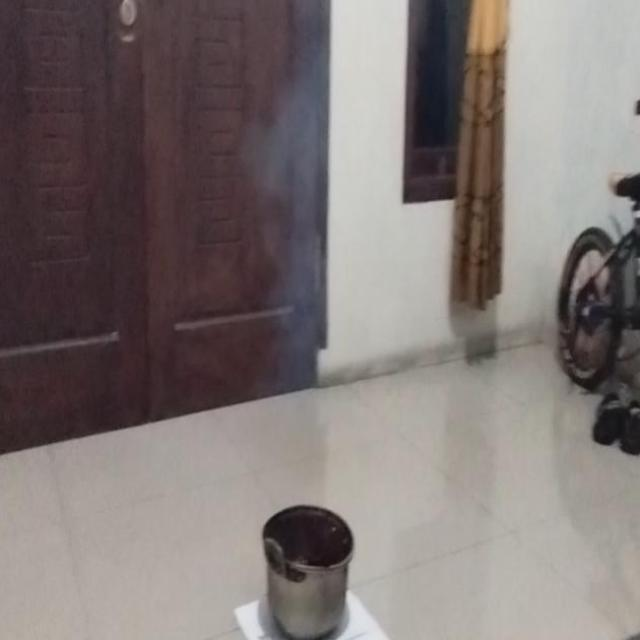fire: (244, 54, 340, 366)
